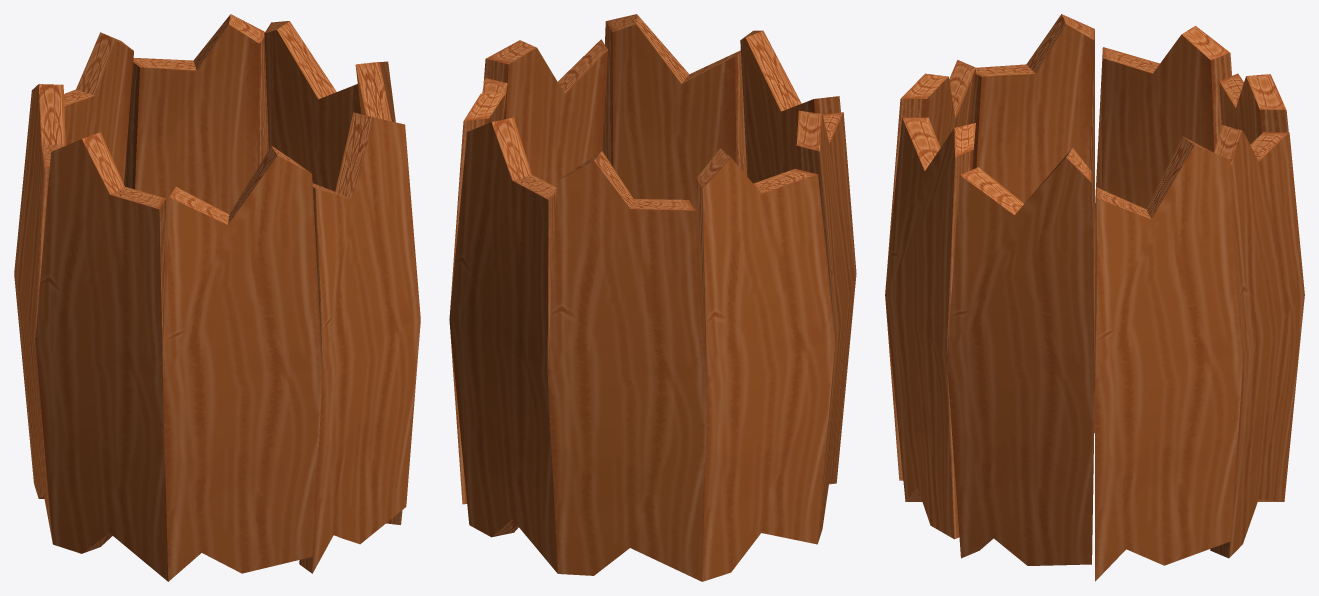
Rendered from barrel_broken.fbx.
3 views of the same model, side by side, from view 1: azimuth 30°, elevation 25°; view 2: azimuth 150°, elevation 25°; view 3: azimuth 270°, elevation 25° (orthographic).
Parts seen in each view (by area): view 1: Cylinder__15__Scene.007, Cylinder__15__Scene.001, Cylinder__15__Scene.009, Cylinder__15__Scene.006, Cylinder__15__Scene.010, Cylinder__15__Scene.003, Cylinder__15__Scene.008, Cylinder__15__Scene.004; view 2: Cylinder__15__Scene.008, Cylinder__15__Scene.003, Cylinder__15__Scene.006, Cylinder__15__Scene.009, Cylinder__15__Scene.004, Cylinder__15__Scene.001, Cylinder__15__Scene.007, Cylinder__15__Scene.010; view 3: Cylinder__15__Scene.010, Cylinder__15__Scene.004, Cylinder__15__Scene.009, Cylinder__15__Scene.006, Cylinder__15__Scene.001, Cylinder__15__Scene.003, Cylinder__15__Scene.007, Cylinder__15__Scene.008.
Part boxes in pixels (x1,y1,x2,y2): Cylinder__15__Scene.007: (163, 145, 322, 581); Cylinder__15__Scene.001: (35, 132, 168, 581); Cylinder__15__Scene.009: (299, 112, 420, 573); Cylinder__15__Scene.006: (124, 14, 268, 370); Cylinder__15__Scene.010: (264, 21, 361, 191); Cylinder__15__Scene.003: (14, 84, 65, 541); Cylinder__15__Scene.008: (64, 32, 133, 183); Cylinder__15__Scene.004: (355, 61, 402, 524); Cylinder__15__Scene.008: (547, 151, 707, 581); Cylinder__15__Scene.003: (696, 148, 835, 581); Cylinder__15__Scene.006: (449, 117, 557, 573); Cylinder__15__Scene.009: (602, 14, 747, 371); Cylinder__15__Scene.004: (483, 39, 608, 187); Cylinder__15__Scene.001: (796, 110, 856, 543); Cylinder__15__Scene.007: (740, 30, 840, 183); Cylinder__15__Scene.010: (449, 78, 507, 504); Cylinder__15__Scene.010: (1095, 136, 1243, 581); Cylinder__15__Scene.004: (946, 148, 1094, 565); Cylinder__15__Scene.009: (885, 117, 975, 539); Cylinder__15__Scene.006: (1210, 125, 1304, 558); Cylinder__15__Scene.001: (971, 14, 1094, 432); Cylinder__15__Scene.003: (1095, 26, 1231, 375); Cylinder__15__Scene.007: (885, 60, 975, 480); Cylinder__15__Scene.008: (1219, 73, 1288, 144).
Size of the model in its own units: 1.11 by 1.21 by 1.11.
